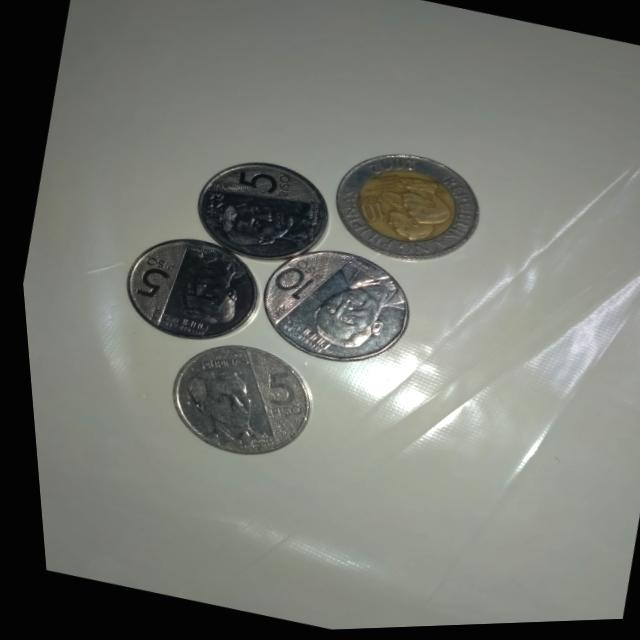10_New_Front: (248, 242, 408, 375)
10_Old_Front: (325, 143, 472, 266)
5_New_Front: (112, 232, 246, 340), (198, 157, 319, 262)
